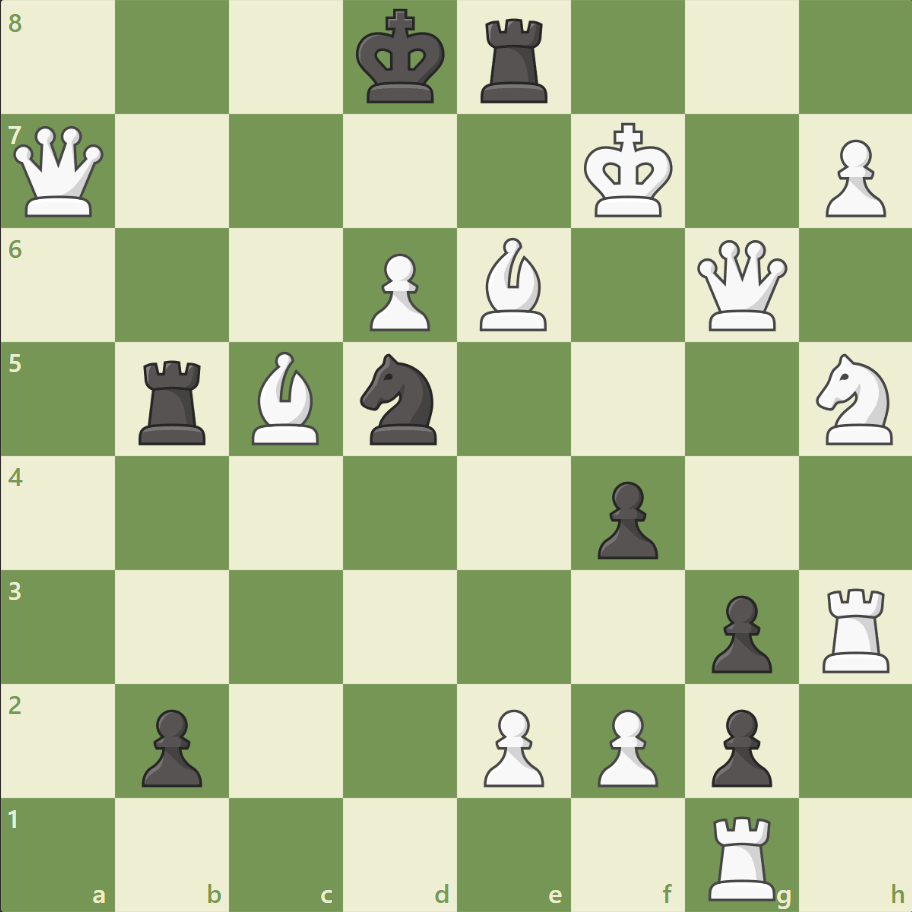B: (471, 233, 555, 336), (244, 347, 328, 449)
K: (579, 117, 679, 225)
N: (806, 348, 903, 450)
P: (474, 700, 549, 791), (815, 132, 889, 223), (361, 246, 435, 337), (588, 700, 662, 791)
Q: (10, 122, 109, 222), (691, 236, 790, 335)
R: (700, 806, 783, 904), (814, 579, 897, 676)
k: (351, 4, 451, 112)
n: (351, 348, 449, 450)
p: (701, 586, 776, 677), (133, 700, 208, 791), (701, 700, 776, 791), (588, 473, 662, 564)
r: (473, 12, 556, 109), (133, 352, 215, 449)
